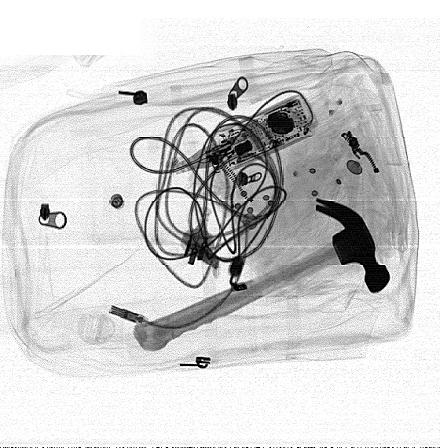Hammer: (132, 197, 391, 352)
